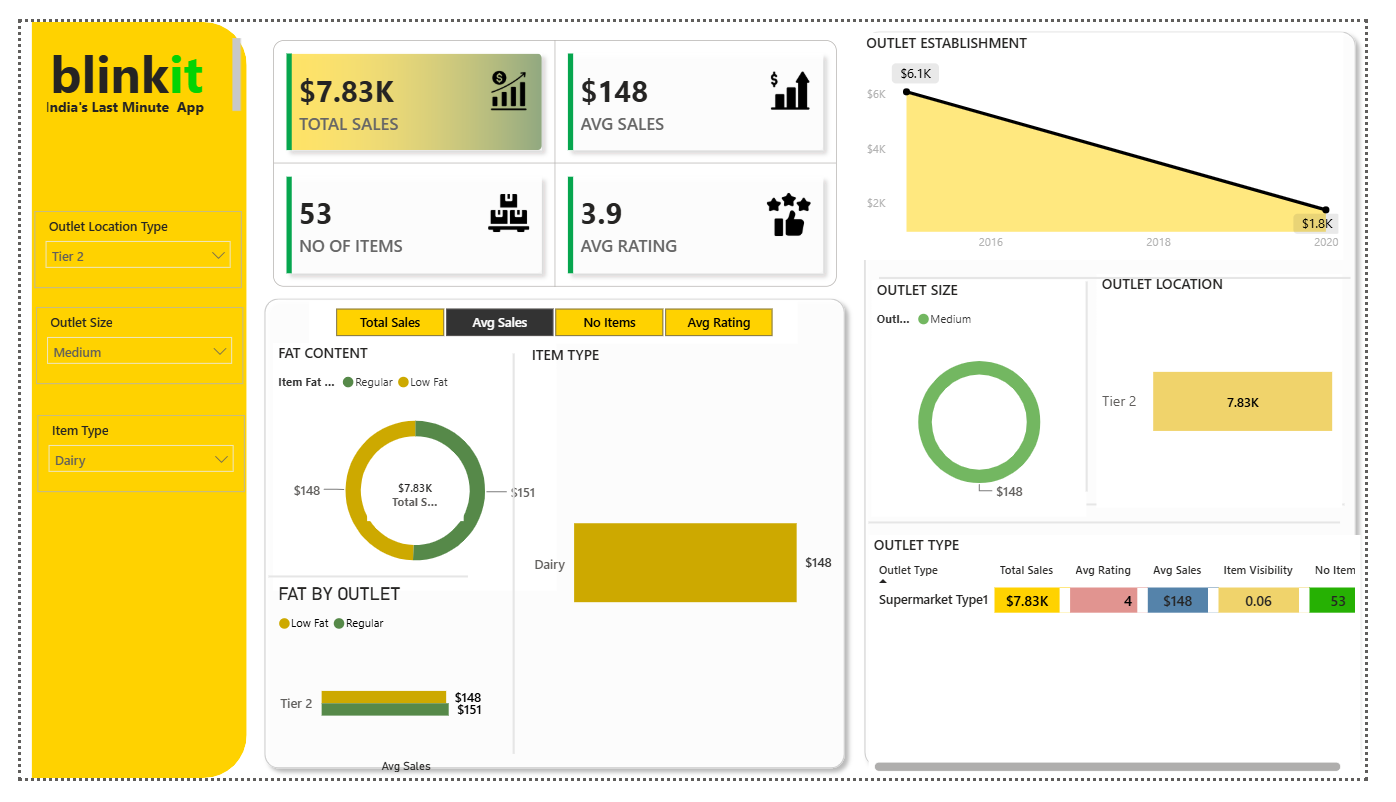

The dashboard page shown, as its layout file describes it:
{"tool":"powerbi","page":{"name":"Page 1","canvas":[1280,720],"ordinal":0},"visuals":[{"type":"shape","box":[10,0,205,720],"z":0},{"type":"textbox","box":[262.8,572.2,204.3,147.2],"z":1000},{"type":"textbox","box":[262.8,378.5,377,84.1],"z":2000},{"type":"textbox","box":[10.5,10.5,204.3,85.6],"z":3000},{"type":"textbox","box":[18,66.1,189.2,30],"z":4000},{"type":"cardVisual","fields":{"Data":["BlinkIT Grocery Data.Total Sales","BlinkIT Grocery Data.Avg Sales","BlinkIT Grocery Data.No Items","BlinkIT Grocery Data.Avg Rating"]},"box":[222.3,0,571.3,270.9],"z":5000},{"type":"shape","box":[222.3,253.8,570.7,465.6],"z":6000},{"type":"donutChart","title":"FAT CONTENT","fields":{"Y":["BlinkIT Grocery Data.Avg Sales"],"Category":["BlinkIT Grocery Data.Item Fat Content"]},"box":[240.3,306.4,270.3,235.8],"z":7000},{"type":"slicer","fields":{"Values":["Matrices.Matrices"]},"box":[274.8,265.8,465.6,40.5],"z":8000},{"type":"cardVisual","fields":{"Data":["BlinkIT Grocery Data.Total Sales"]},"box":[324.4,420.5,102.1,60.1],"z":9000},{"type":"clusteredBarChart","title":"FAT BY OUTLET","fields":{"Y":["BlinkIT Grocery Data.Avg Sales"],"Category":["BlinkIT Grocery Data.Outlet Location Type"],"Series":["BlinkIT Grocery Data.Item Fat Content"]},"box":[240.3,534.7,211.8,184.7],"z":10000},{"type":"shape","box":[235.6,521.3,190,13.3],"z":11000},{"type":"shape","box":[400.5,315.1,138.4,381.4],"z":12000},{"type":"barChart","title":"ITEM TYPE","fields":{"Y":["BlinkIT Grocery Data.Avg Sales"],"Category":["BlinkIT Grocery Data.Item Type"]},"box":[481.5,307.7,296,393.2],"z":13000},{"type":"shape","box":[793.7,0,485.9,718.6],"z":14000},{"type":"lineChart","title":"OUTLET ESTABLISHMENT","fields":{"Category":["BlinkIT Grocery Data.Outlet Establishment Year"],"Y":["BlinkIT Grocery Data.Total Sales"]},"box":[799.6,10.3,459.4,216.5],"z":15000},{"type":"shape","box":[811.3,453.5,449.1,13.2],"z":16000},{"type":"donutChart","title":"OUTLET SIZE","fields":{"Category":["BlinkIT Grocery Data.Outlet Size"],"Y":["BlinkIT Grocery Data.Avg Sales"]},"box":[809.9,245.9,204.7,225.3],"z":17000},{"type":"shape","box":[945.3,247.4,138.4,200.3],"z":18000},{"type":"funnel","title":"OUTLET LOCATION","fields":{"Y":["Sum(BlinkIT Grocery Data.Sales)"],"Category":["BlinkIT Grocery Data.Outlet Location Type"]},"box":[1024.8,240,234.1,222.3],"z":19000},{"type":"shape","box":[816.9,236.8,449.1,13.3],"z":20000},{"type":"shape","box":[806.9,469.7,449.1,13.2],"z":21000},{"type":"pivotTable","title":"OUTLET TYPE","fields":{"Rows":["BlinkIT Grocery Data.Outlet Type"],"Values":["BlinkIT Grocery Data.Total Sales","BlinkIT Grocery Data.Avg Rating","BlinkIT Grocery Data.Avg Sales","Avg(BlinkIT Grocery Data.Item Visibility)","BlinkIT Grocery Data.No Items"]},"box":[806.9,488.9,449.1,229.7],"z":22000},{"type":"slicer","fields":{"Values":["BlinkIT Grocery Data.Outlet Location Type"]},"box":[13.3,179.6,197.3,73.6],"z":23000},{"type":"slicer","fields":{"Values":["BlinkIT Grocery Data.Outlet Size"]},"box":[14.7,270.9,197.3,73.6],"z":24000},{"type":"slicer","fields":{"Values":["BlinkIT Grocery Data.Item Type"]},"box":[16.2,374,197.3,73.6],"z":25000}]}

Visuals, with their boxes in screenshot pixels (x1, y1, x2, y2), scaled from the page's 1280x720 canvas onto the 1396x802 screenshot:
shape: (x1=11, y1=0, x2=234, y2=801)
textbox: (x1=287, y1=637, x2=509, y2=801)
textbox: (x1=287, y1=422, x2=698, y2=515)
textbox: (x1=11, y1=12, x2=234, y2=107)
textbox: (x1=20, y1=74, x2=226, y2=107)
cardVisual - BlinkIT Grocery Data.Total Sales x BlinkIT Grocery Data.Avg Sales: (x1=242, y1=0, x2=866, y2=302)
shape: (x1=242, y1=283, x2=865, y2=801)
"FAT CONTENT" donutChart: (x1=262, y1=341, x2=557, y2=604)
slicer - Matrices.Matrices: (x1=300, y1=296, x2=807, y2=341)
cardVisual - BlinkIT Grocery Data.Total Sales: (x1=354, y1=468, x2=465, y2=535)
"FAT BY OUTLET" clusteredBarChart: (x1=262, y1=596, x2=493, y2=801)
shape: (x1=257, y1=581, x2=464, y2=595)
shape: (x1=437, y1=351, x2=588, y2=776)
"ITEM TYPE" barChart: (x1=525, y1=343, x2=848, y2=781)
shape: (x1=866, y1=0, x2=1395, y2=800)
"OUTLET ESTABLISHMENT" lineChart: (x1=872, y1=11, x2=1373, y2=253)
shape: (x1=885, y1=505, x2=1375, y2=520)
"OUTLET SIZE" donutChart: (x1=883, y1=274, x2=1107, y2=525)
shape: (x1=1031, y1=276, x2=1182, y2=499)
"OUTLET LOCATION" funnel: (x1=1118, y1=267, x2=1373, y2=515)
shape: (x1=891, y1=264, x2=1381, y2=279)
shape: (x1=880, y1=523, x2=1370, y2=538)
"OUTLET TYPE" pivotTable: (x1=880, y1=545, x2=1370, y2=800)
slicer - BlinkIT Grocery Data.Outlet Location Type: (x1=15, y1=200, x2=230, y2=282)
slicer - BlinkIT Grocery Data.Outlet Size: (x1=16, y1=302, x2=231, y2=384)
slicer - BlinkIT Grocery Data.Item Type: (x1=18, y1=417, x2=233, y2=499)
